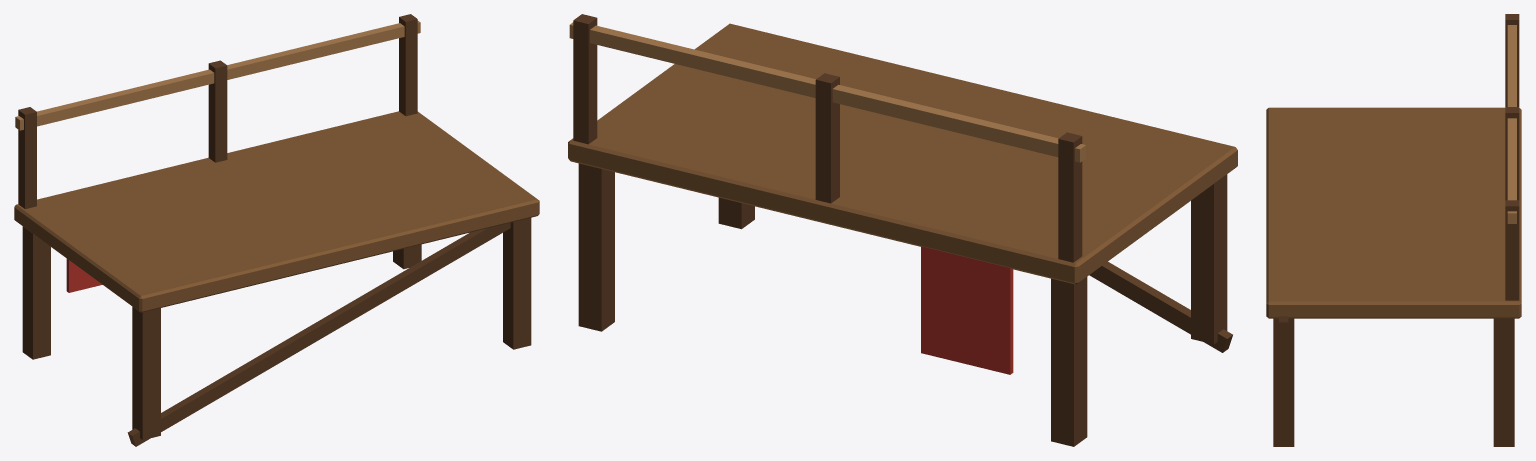
File: SM_Stand_4m.fbx
3 renders of one model, left to right at view 1: azimuth 30°, elevation 25°; view 2: azimuth 150°, elevation 25°; view 3: azimuth 270°, elevation 25°, orthographic. The views are drawn at different scales.
Parts seen in each view (by area): view 1: SM_Stand_4m; view 2: SM_Stand_4m; view 3: SM_Stand_4m.
Part boxes in pixels (x1=…): SM_Stand_4m: x1=14, y1=14, x2=539, y2=446; SM_Stand_4m: x1=568, y1=14, x2=1237, y2=446; SM_Stand_4m: x1=1266, y1=14, x2=1521, y2=446.
Bounding box in the file's own units: 4.03 × 2.2 × 2.38.
